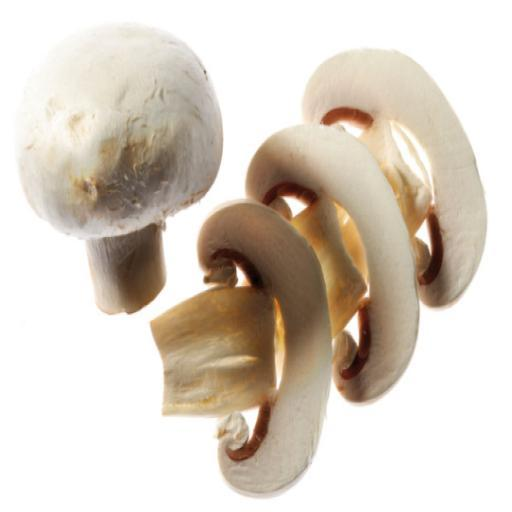mushroom: (152, 44, 491, 497), (20, 22, 223, 316)
